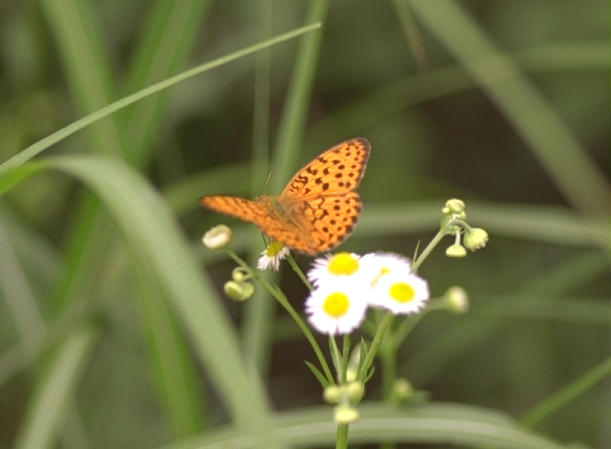Argyreus hyperbius: (194, 133, 378, 265)
butterfly: (192, 131, 376, 263)
